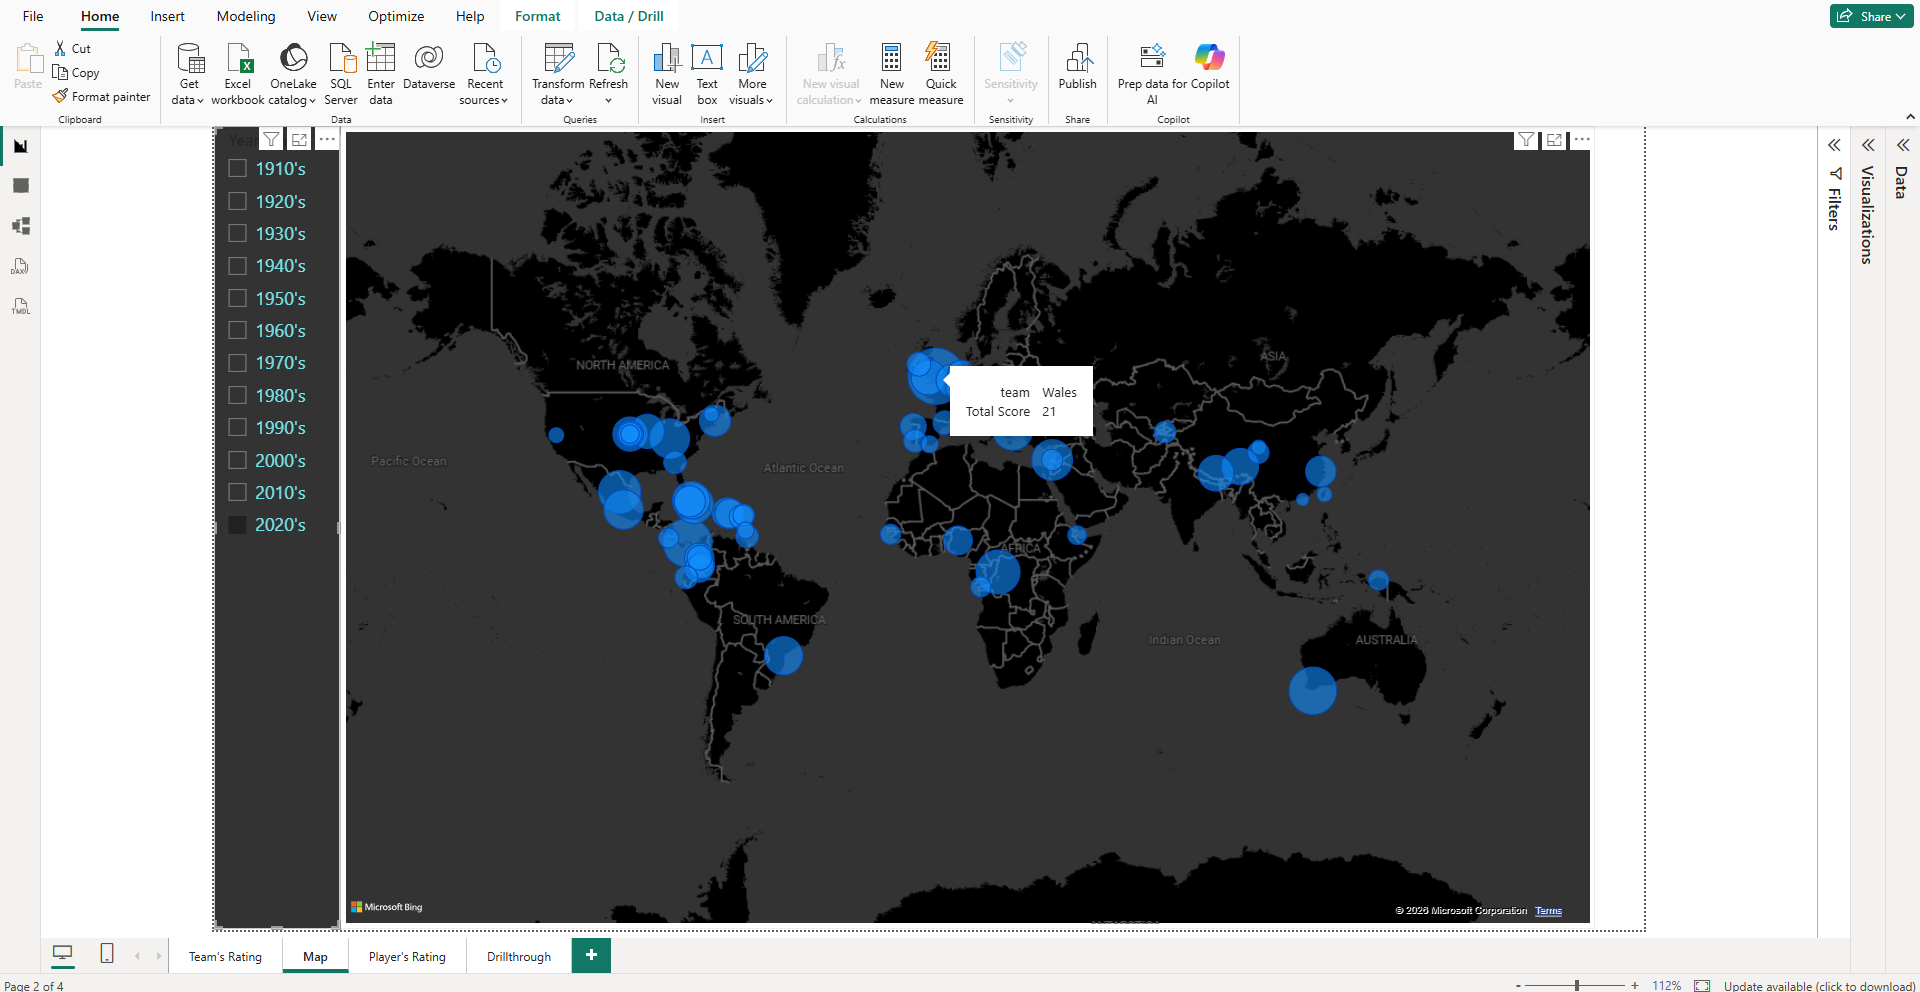

Layout of this report page (visuals, bound fields, positions):
{"tool":"powerbi","page":{"name":"Map","canvas":[1280,720],"ordinal":1},"visuals":[{"type":"map","fields":{"Category":["goalscorers.team"],"Size":["goalscorers.Total Score"]},"box":[113.1,0,1123.9,719.2],"z":0},{"type":"slicer","fields":{"Values":["goalscorers.Year Bins"]},"box":[0,0,113.1,719.2],"z":1000}]}

Visuals, with their boxes on the page's 1280x720 design canvas (x1, y1, x2, y2). These are canvas units, not pixel positions in the 1920x992 screenshot, which may show the page scaled, cropped or inside an application window:
map - goalscorers.team x goalscorers.Total Score: l=113, t=0, r=1237, b=719
slicer - goalscorers.Year Bins: l=0, t=0, r=113, b=719
